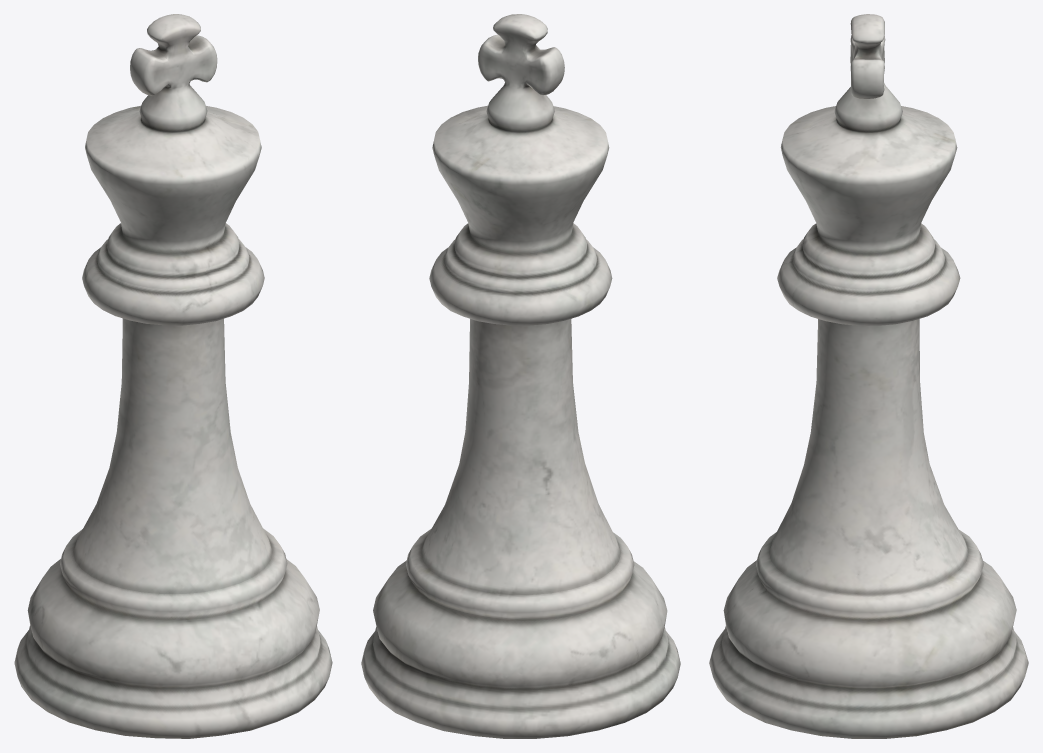
The model's file is king.gltf.
3 renders of one model, left to right at view 1: azimuth 30°, elevation 25°; view 2: azimuth 150°, elevation 25°; view 3: azimuth 270°, elevation 25°, orthographic.
Visible parts, largest first — view 1: king; view 2: king; view 3: king.
Boxes of the visible parts, x1,y1,x2,y2 form: king: (14, 14, 332, 738); king: (361, 14, 680, 738); king: (709, 14, 1028, 738).
Size of the model in its own units: 0.4153 by 0.95 by 0.4172.
